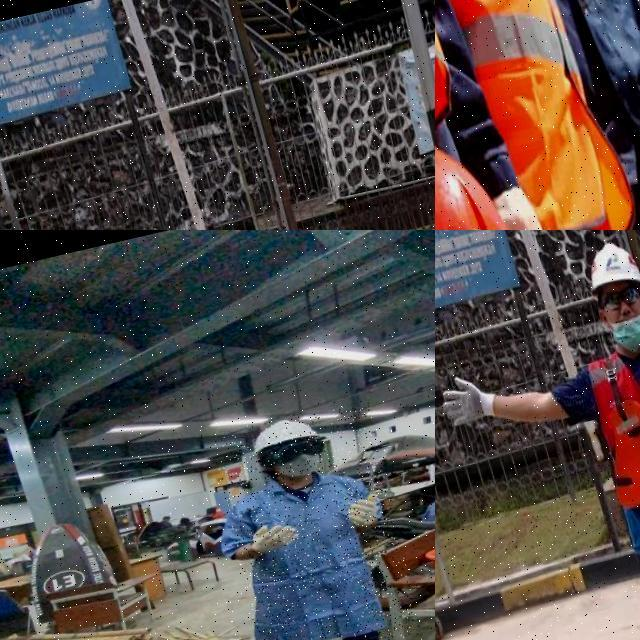helmet: (435, 104, 565, 230), (243, 408, 324, 457), (579, 232, 640, 297)
vest: (435, 0, 640, 230), (586, 331, 640, 553)
